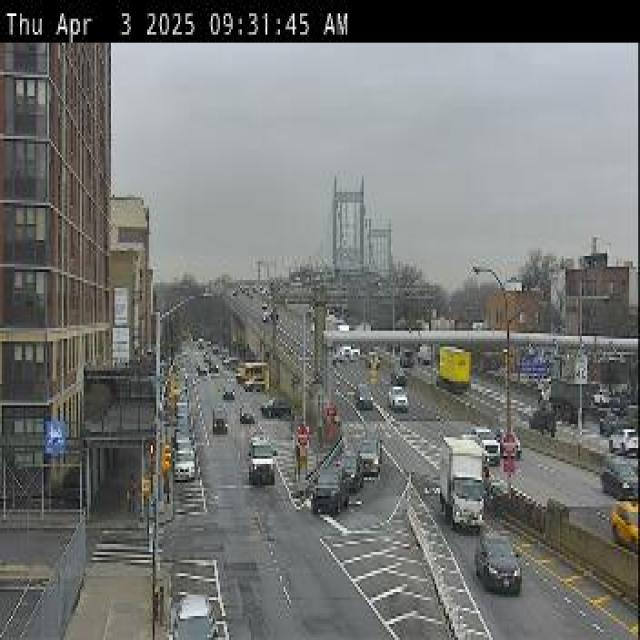open parking: (254, 383, 278, 400)
parkedCars: (258, 392, 299, 422), (245, 360, 270, 392)
